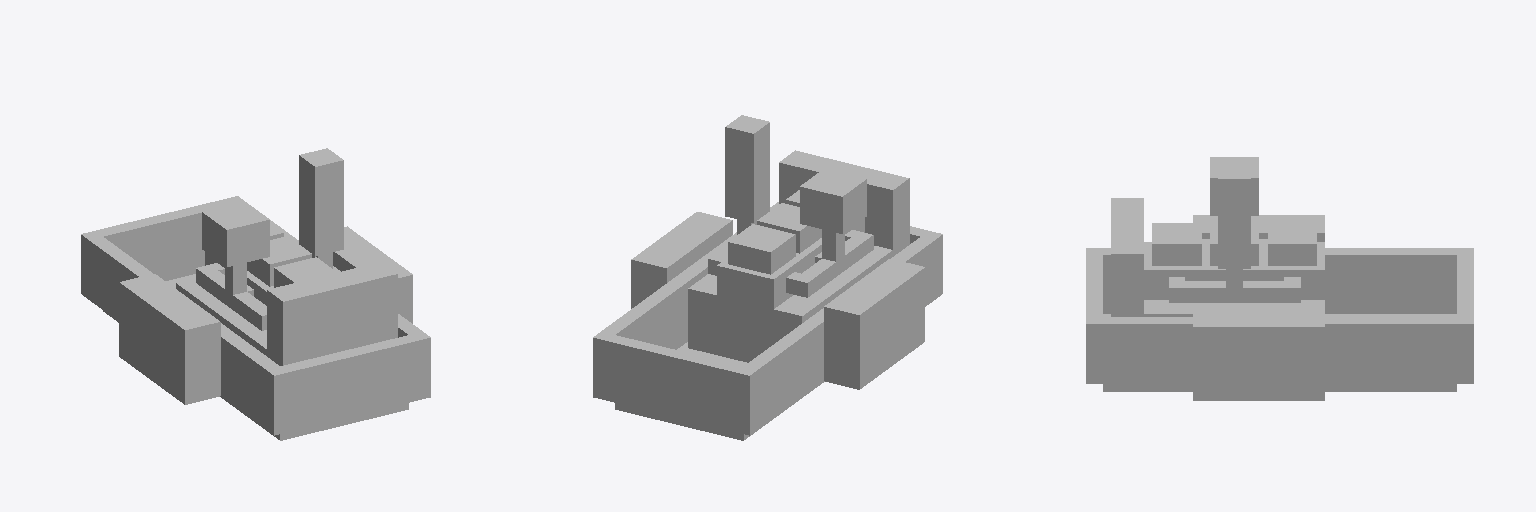
The model's file is diesel_boat_hull.obj.
3 views of the same model, side by side, from view 1: azimuth 30°, elevation 25°; view 2: azimuth 150°, elevation 25°; view 3: azimuth 270°, elevation 25° (orthographic).
Parts seen in each view (by area): view 1: Hull; view 2: Hull; view 3: Hull.
Part boxes in pixels (bbox=[...]): Hull: bbox=[81, 148, 430, 440]; Hull: bbox=[593, 115, 942, 440]; Hull: bbox=[1086, 157, 1473, 400].
Size of the model in its own units: 2 by 1.75 by 2.94.